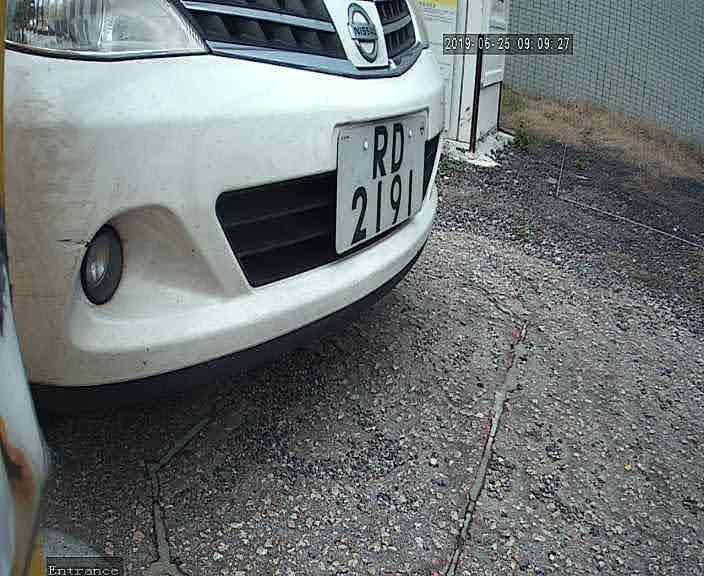privatecar: (2, 2, 451, 422)
